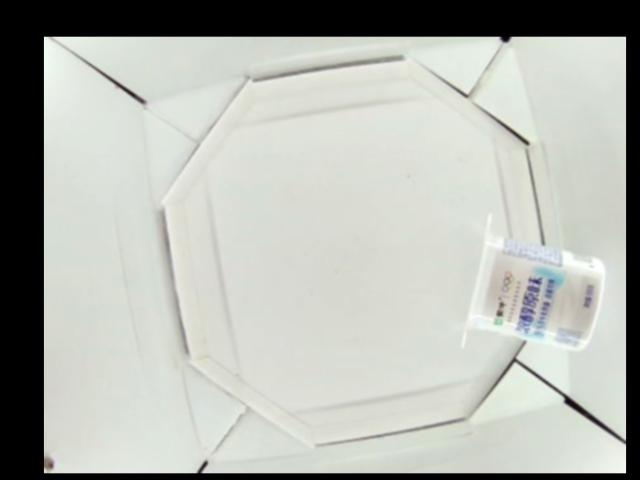Cup: (460, 213, 605, 352)
